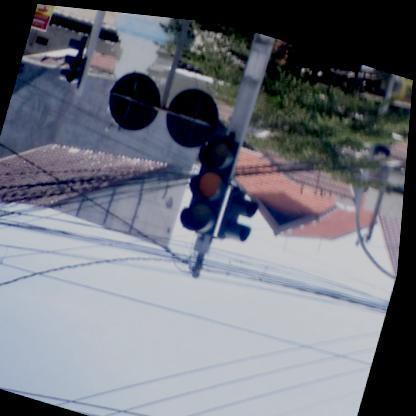yellow: (179, 124, 241, 235)
